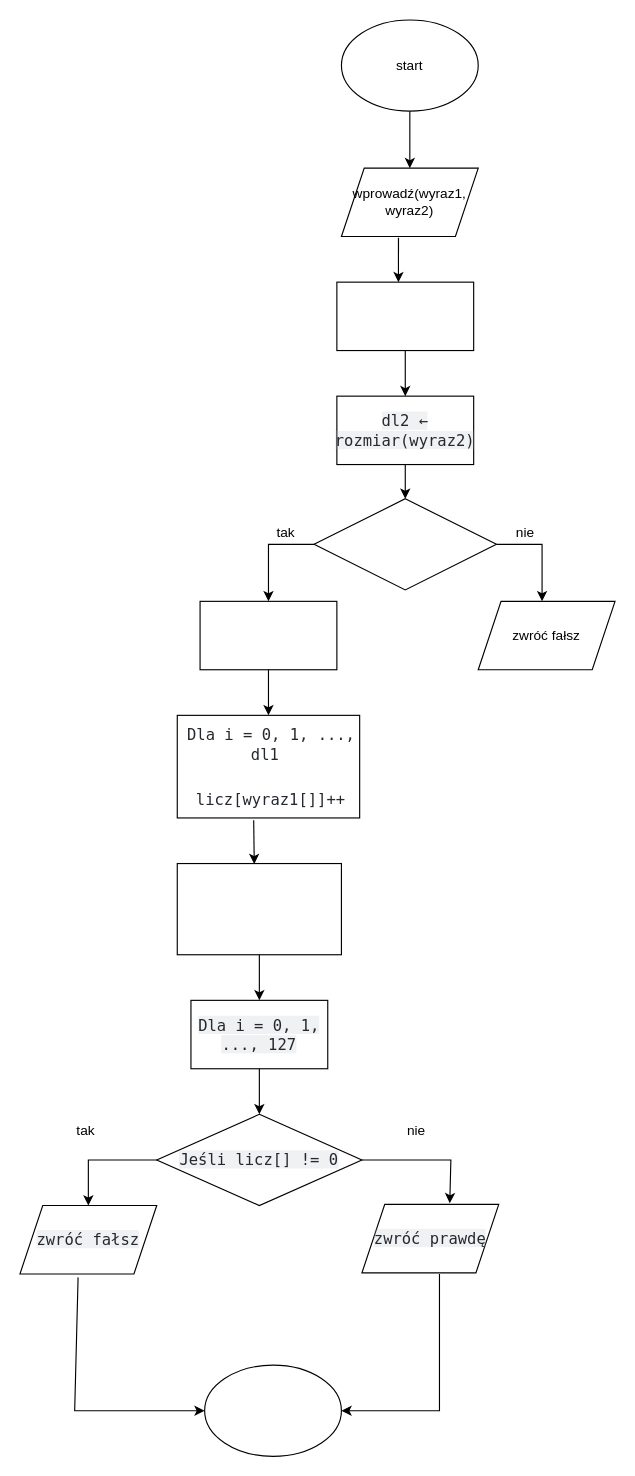
This 635x1476 diagram has some shape labels left out. Here are the shapes that lost their labels. From the top down, the box of each, then its label:
(336, 281, 474, 351): dl1 ← rozmiar(wyraz1)
(313, 498, 496, 590): Jeśli dl1 != dl2
(199, 600, 337, 670): licz[] ← {}
(176, 862, 341, 955): Dla i = 0, 1, ..., dl1 licz[wyraz2[]]--
(203, 1364, 341, 1456): koniec
